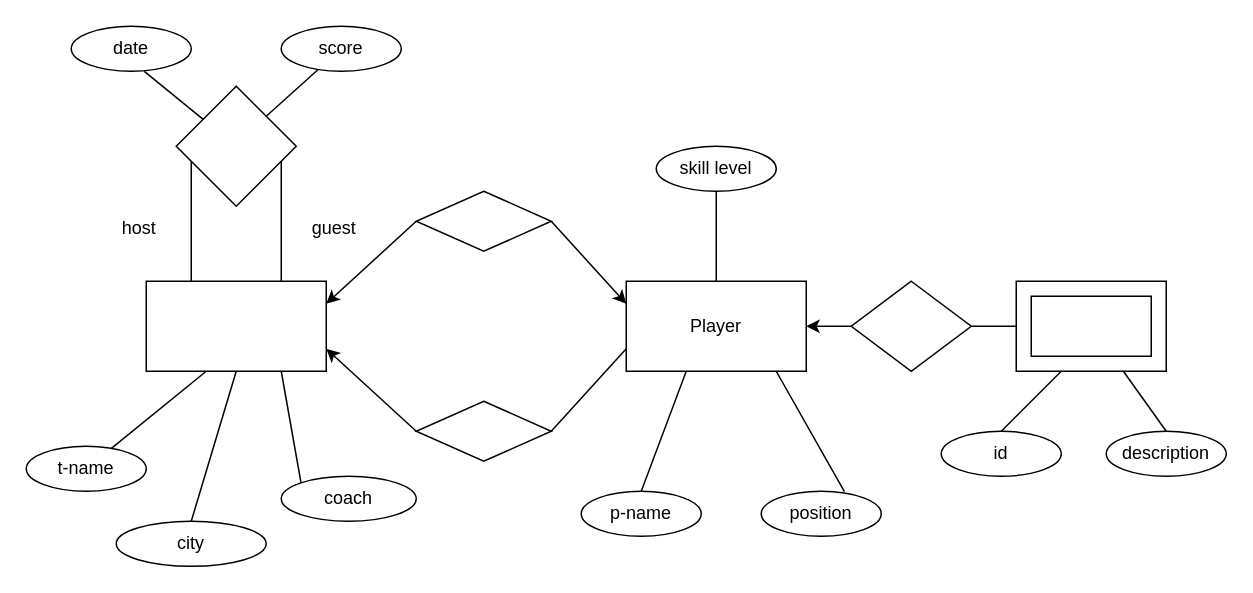
The diagram is 1253 pixels wide and 593 high, and some of its shapes have lost their labels. Each missing label, with the box of its shape:
belongs to: (415, 400, 551, 461)
captain: (415, 190, 551, 251)
game: (175, 85, 296, 206)
Injury Record: (1015, 280, 1166, 371)
log: (850, 280, 971, 371)
Team: (145, 280, 326, 371)
